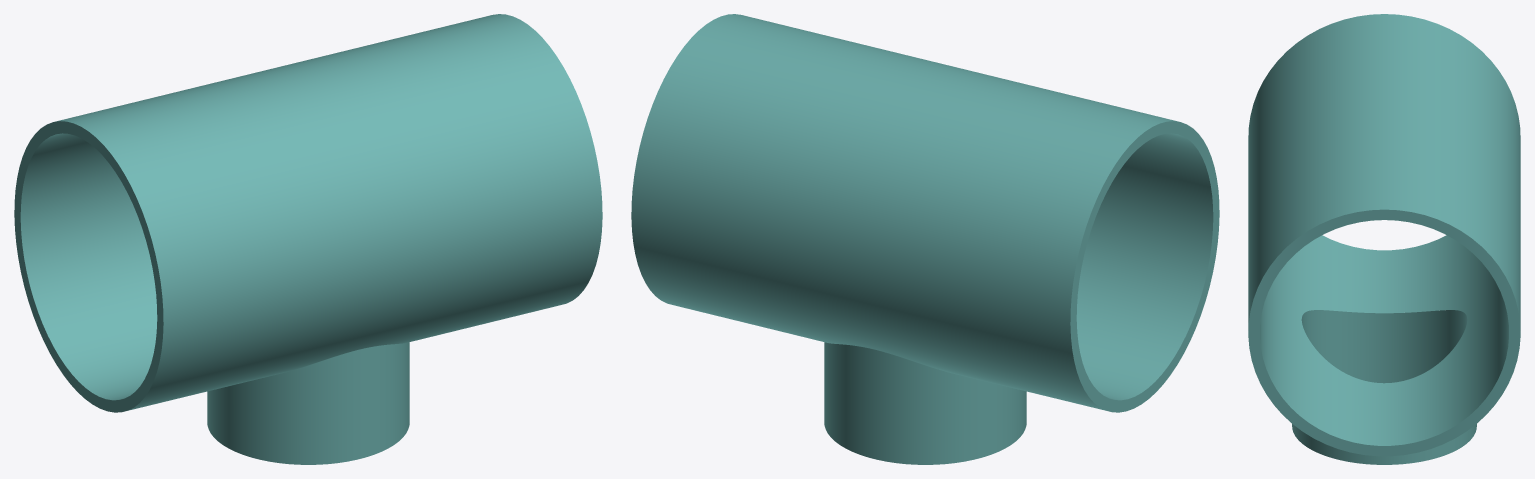
The model's file is step_16.glb.
3 renders of one model, left to right at view 1: azimuth 30°, elevation 25°; view 2: azimuth 150°, elevation 25°; view 3: azimuth 270°, elevation 25°, orthographic. The views are drawn at different scales.
Parts seen in each view (by area): view 1: part__6" x 4" reducing tee; view 2: part__6" x 4" reducing tee; view 3: part__6" x 4" reducing tee.
Boxes of the visible parts, box(x1,y1,x2,y2) form: part__6" x 4" reducing tee: box(14, 14, 602, 464); part__6" x 4" reducing tee: box(631, 14, 1219, 464); part__6" x 4" reducing tee: box(1248, 14, 1520, 464).
Size of the model in its own units: 286 by 214 by 168.
